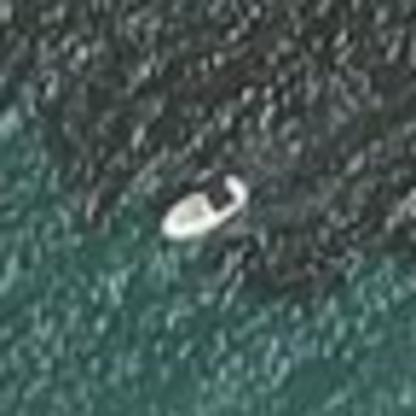ship: (148, 164, 265, 250)
